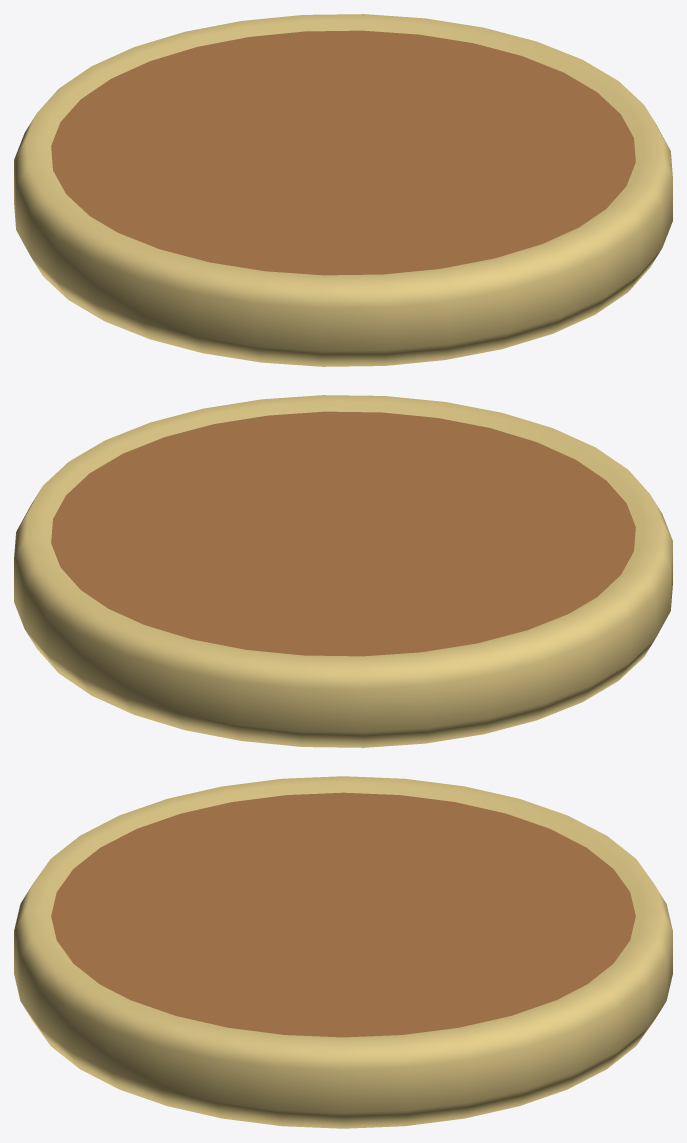
Rendered from Pancake.fbx.
3 views of the same model, one above another, from view 1: azimuth 30°, elevation 25°; view 2: azimuth 150°, elevation 25°; view 3: azimuth 270°, elevation 25° (orthographic).
Parts seen in each view (by area): view 1: Panbrown, PanYel; view 2: Panbrown, PanYel; view 3: Panbrown, PanYel.
Part boxes in pixels (left/top/right/bottom): Panbrown: left=51, top=30, right=635, bottom=275; PanYel: left=14, top=14, right=672, bottom=366; Panbrown: left=51, top=411, right=635, bottom=656; PanYel: left=14, top=395, right=672, bottom=747; Panbrown: left=51, top=792, right=635, bottom=1037; PanYel: left=14, top=776, right=672, bottom=1128.
Bounding box in the file's own units: 59.49 × 8.45 × 59.49.
